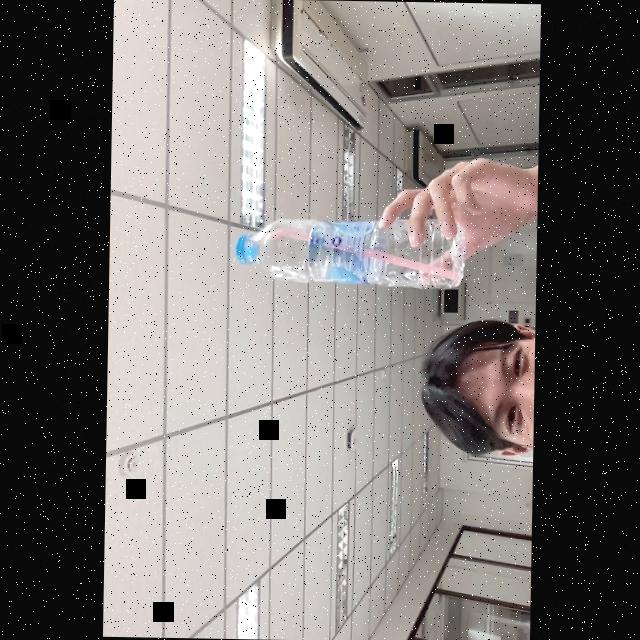plastic_bottle: (231, 207, 467, 292)
plastic_bottle_cap: (230, 233, 258, 266)
straw: (261, 234, 461, 279)
